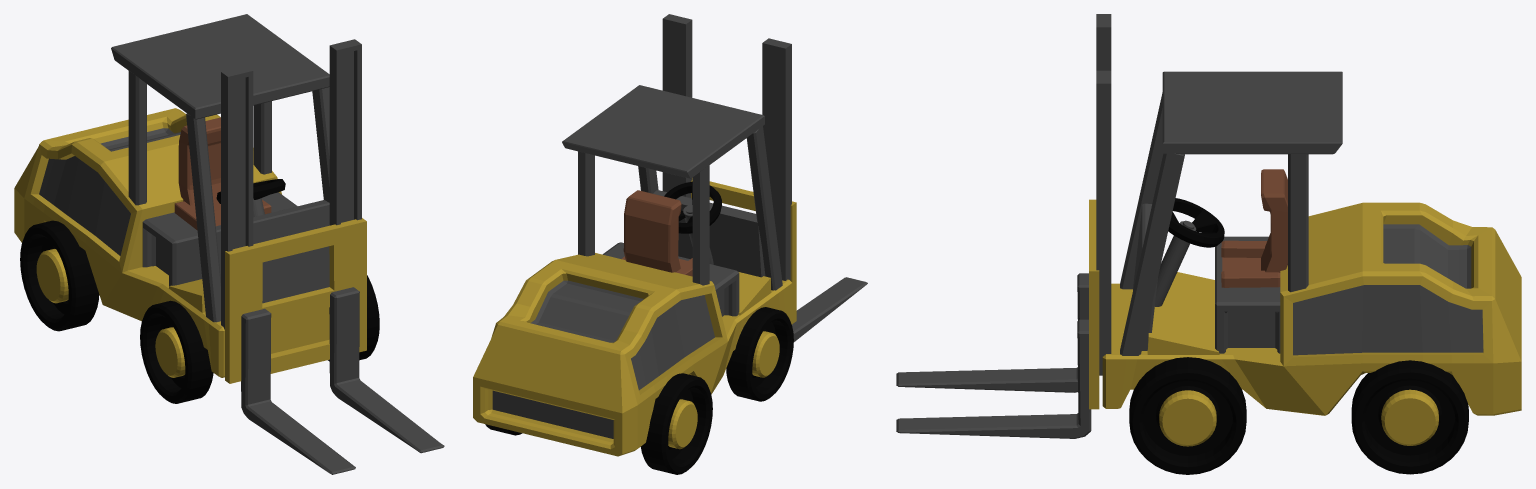
The model's file is Forklift.fbx.
3 views of the same model, side by side, from view 1: azimuth 30°, elevation 25°; view 2: azimuth 150°, elevation 25°; view 3: azimuth 270°, elevation 25° (orthographic). The views are drawn at different scales.
Parts seen in each view (by area): view 1: Forklift, Fork; view 2: Forklift, Fork; view 3: Forklift, Fork.
Boxes of the visible parts, x1,y1,x2,y2 form: Forklift: (14, 14, 379, 403); Fork: (225, 218, 444, 474); Forklift: (473, 14, 793, 474); Fork: (691, 178, 867, 342); Forklift: (1096, 14, 1521, 474); Fork: (896, 199, 1099, 438).
Bounding box in the file's own units: 1049 × 1726 × 2611.
